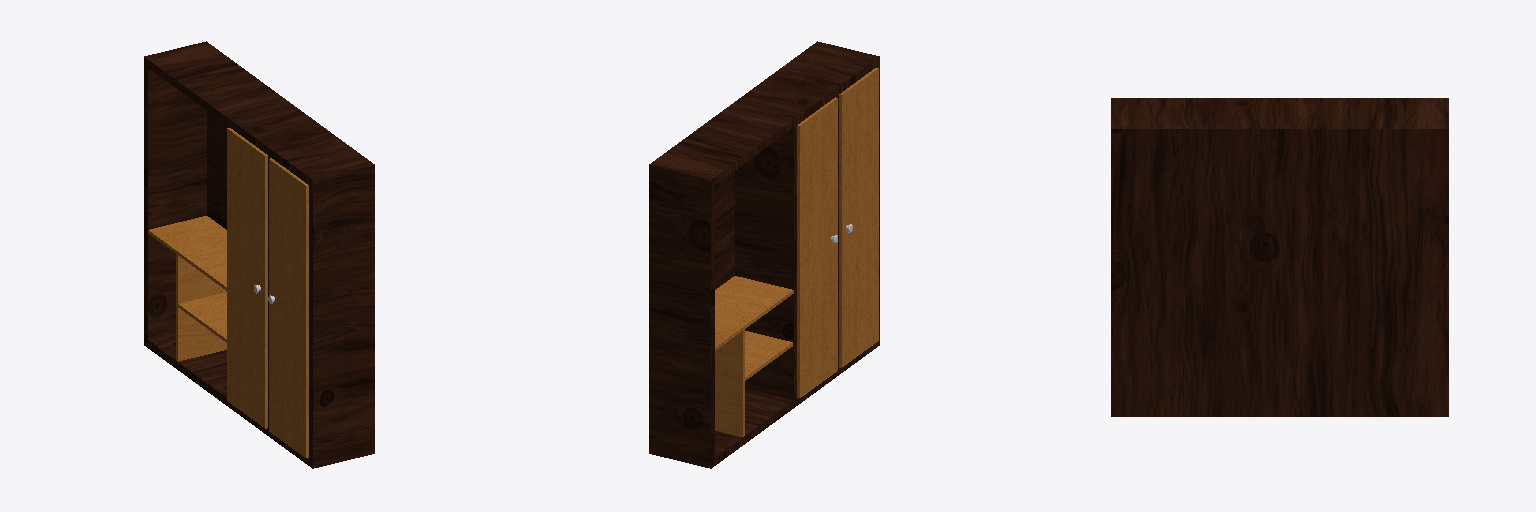
3 renders of one model, left to right at view 1: azimuth 30°, elevation 25°; view 2: azimuth 150°, elevation 25°; view 3: azimuth 270°, elevation 25°, orthographic.
Parts seen in each view (by area): view 1: Base, Puertas, Repisa_2, Separador, Repisa_1; view 2: Base, Puertas, Repisa_2, Separador, Repisa_1; view 3: Base.
Part boxes in pixels (x1,y1,x2,y2): Base: (144, 41, 374, 468); Puertas: (227, 128, 308, 457); Repisa_2: (148, 216, 226, 290); Separador: (176, 254, 226, 361); Repisa_1: (178, 292, 226, 342); Base: (649, 41, 879, 468); Puertas: (797, 68, 878, 397); Repisa_2: (715, 276, 793, 350); Separador: (715, 330, 744, 436); Repisa_1: (745, 331, 792, 380); Base: (1111, 98, 1448, 416).
Bounding box in the file's own units: 0.5004 × 1.98 × 2.1.
3 materials, 2 textured.